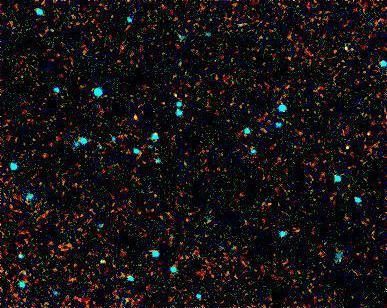star: (353, 114, 383, 144)
